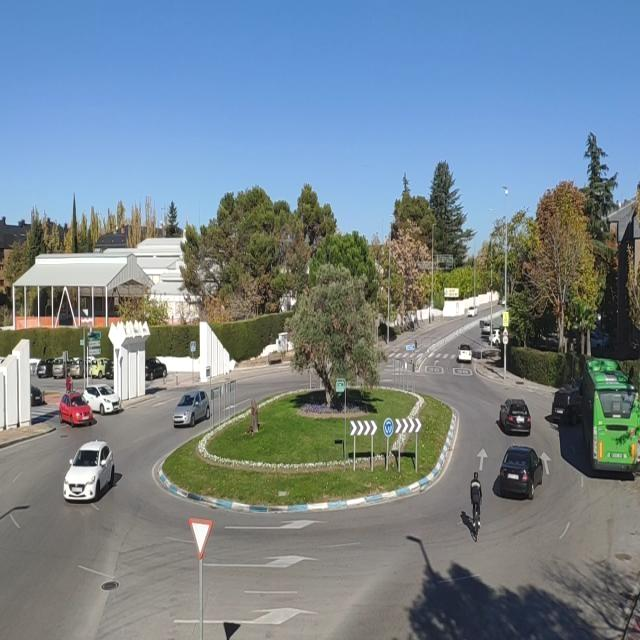Bus: (580, 356, 640, 479)
Car: (63, 441, 114, 501), (498, 444, 544, 503), (173, 390, 210, 428), (550, 383, 581, 424), (83, 384, 123, 415), (498, 399, 532, 435), (59, 392, 94, 426), (69, 356, 92, 379), (52, 356, 74, 379), (145, 358, 167, 380), (90, 357, 112, 379), (36, 357, 55, 379), (591, 330, 610, 350), (457, 344, 473, 363), (30, 385, 43, 406), (491, 329, 504, 346), (479, 320, 492, 336), (105, 357, 114, 379), (467, 306, 478, 317)
Cycle: (468, 494, 484, 542)
